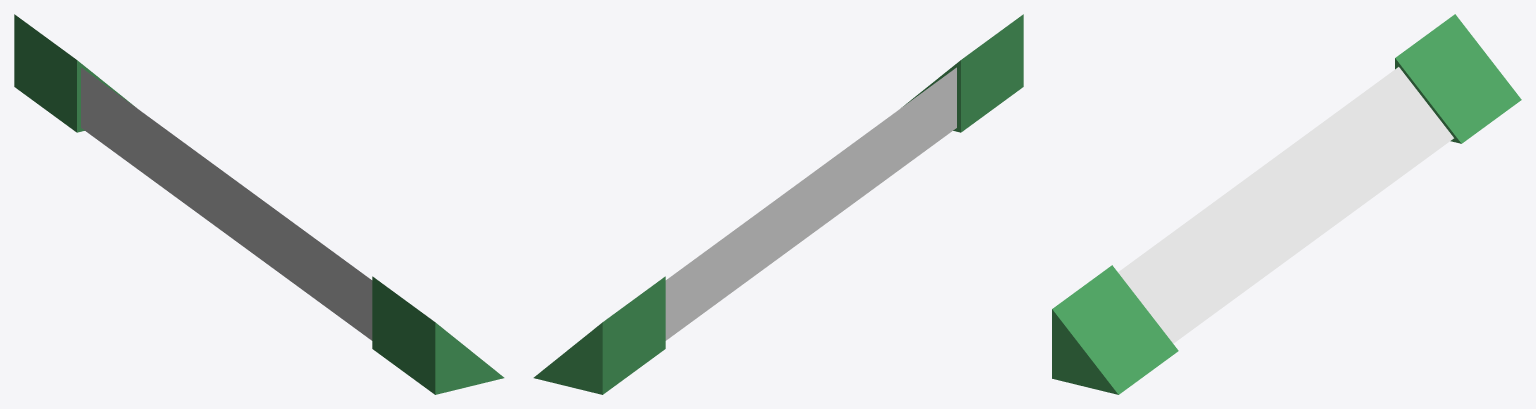
File: 3fuseTriangleGreen.fbx
3 views of the same model, side by side, from view 1: azimuth 30°, elevation 25°; view 2: azimuth 150°, elevation 25°; view 3: azimuth 330°, elevation 25° (orthographic). The views are drawn at different scales.
Visible parts, largest first — view 1: 立方体; view 2: 立方体; view 3: 立方体.
Boxes of the visible parts, <box> form: 立方体: <box>14,14,504,394</box>; 立方体: <box>533,14,1023,394</box>; 立方体: <box>1052,14,1521,394</box>.
Size of the model in its own units: 240 by 240 by 2520.
